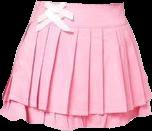Hemline: (2, 97, 151, 116), (0, 113, 151, 130)
Waistline: (29, 21, 128, 29), (37, 1, 123, 6)
